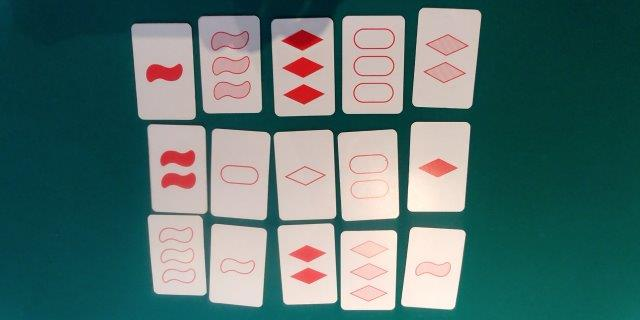1ED: (281, 135, 330, 215)
1EP: (214, 135, 263, 215)
1EW: (214, 229, 260, 301)
1FD: (413, 126, 462, 207)
1FW: (139, 25, 188, 114)
1HW: (411, 232, 454, 306)
2EP: (344, 135, 394, 215)
2FD: (285, 228, 332, 301)
2FW: (154, 128, 202, 210)
2HD: (421, 10, 469, 103)
3EP: (345, 19, 400, 111)
3EW: (154, 218, 199, 291)
3FD: (276, 19, 330, 113)
3HD: (344, 234, 392, 307)
3HW: (204, 19, 256, 108)
